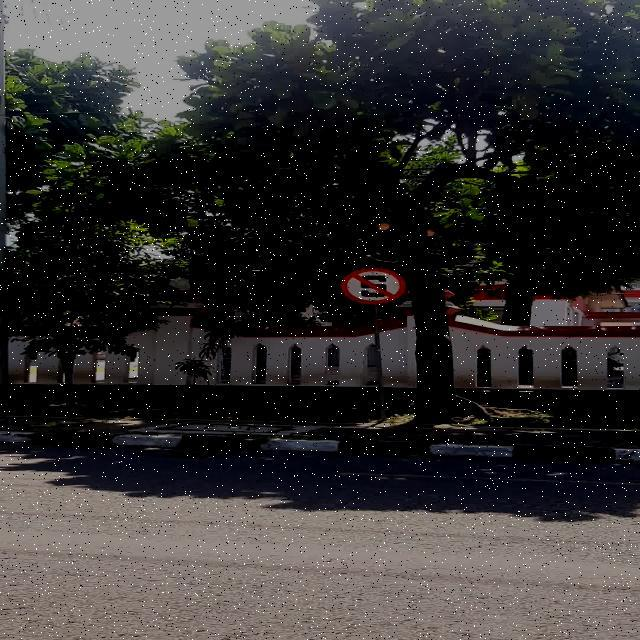Dilarang Berhenti: (340, 268, 407, 304)
